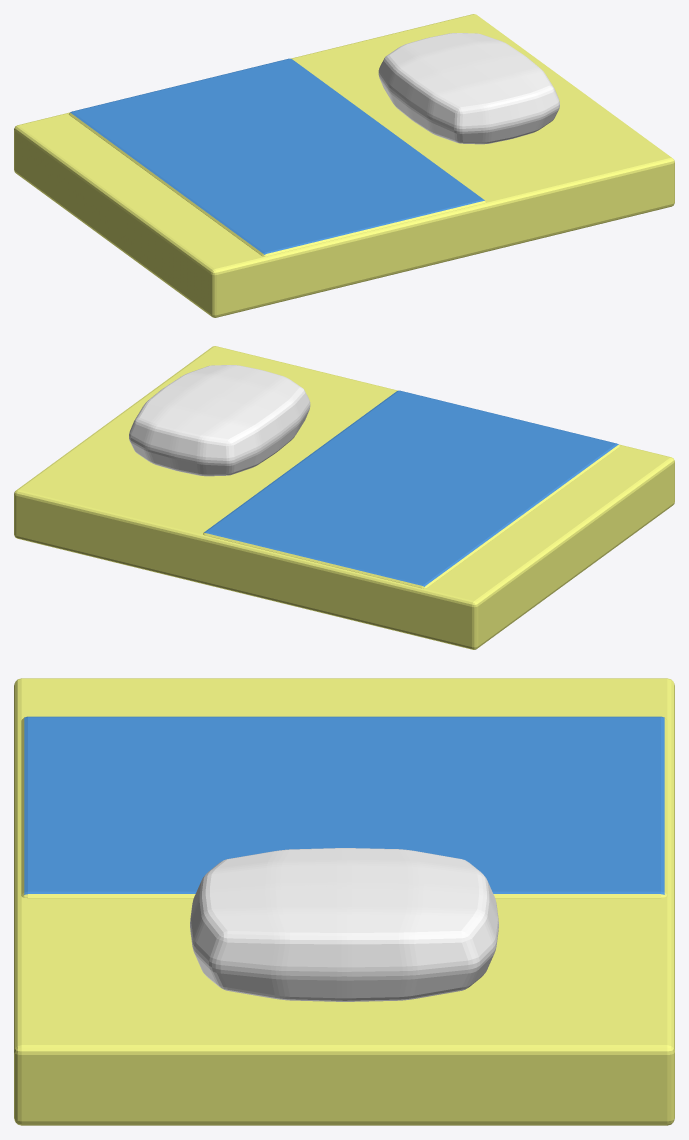
File: Bed.fbx
The picture shows the model from 3 angles, top to bottom: view 1: azimuth 30°, elevation 25°; view 2: azimuth 150°, elevation 25°; view 3: azimuth 270°, elevation 25°; orthographic projection. The views are drawn at different scales.
Visible parts, largest first — view 1: Bed.001; view 2: Bed.001; view 3: Bed.001.
Boxes of the visible parts, x1=… form: Bed.001: x1=14, y1=14, x2=674, y2=317; Bed.001: x1=14, y1=346, x2=674, y2=649; Bed.001: x1=14, y1=678, x2=674, y2=1125.
Bounding box in the file's own units: 200 × 39.14 × 150.
